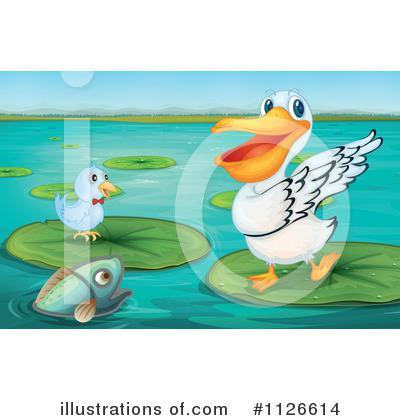bird: (207, 85, 380, 300), (48, 156, 118, 244)
